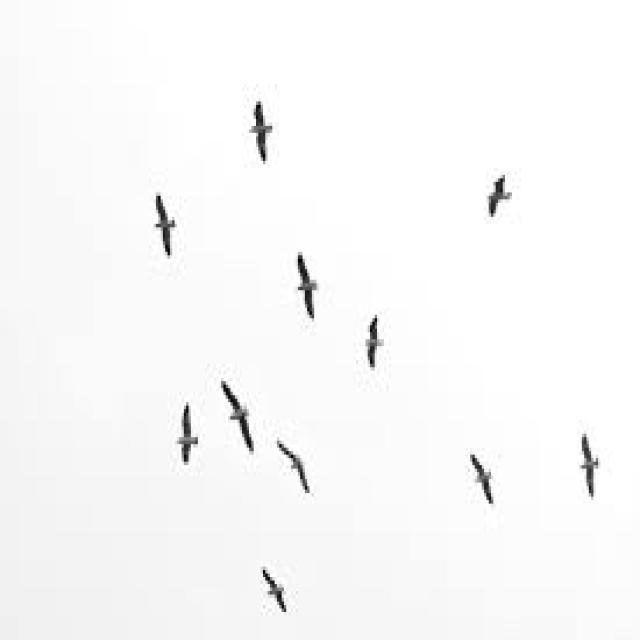bird: (462, 118, 532, 240), (552, 396, 608, 520), (272, 418, 333, 516), (238, 68, 286, 180), (282, 238, 322, 357), (362, 288, 404, 401), (134, 175, 178, 280), (208, 366, 257, 456), (454, 427, 498, 518), (165, 378, 200, 472), (256, 552, 296, 622)
